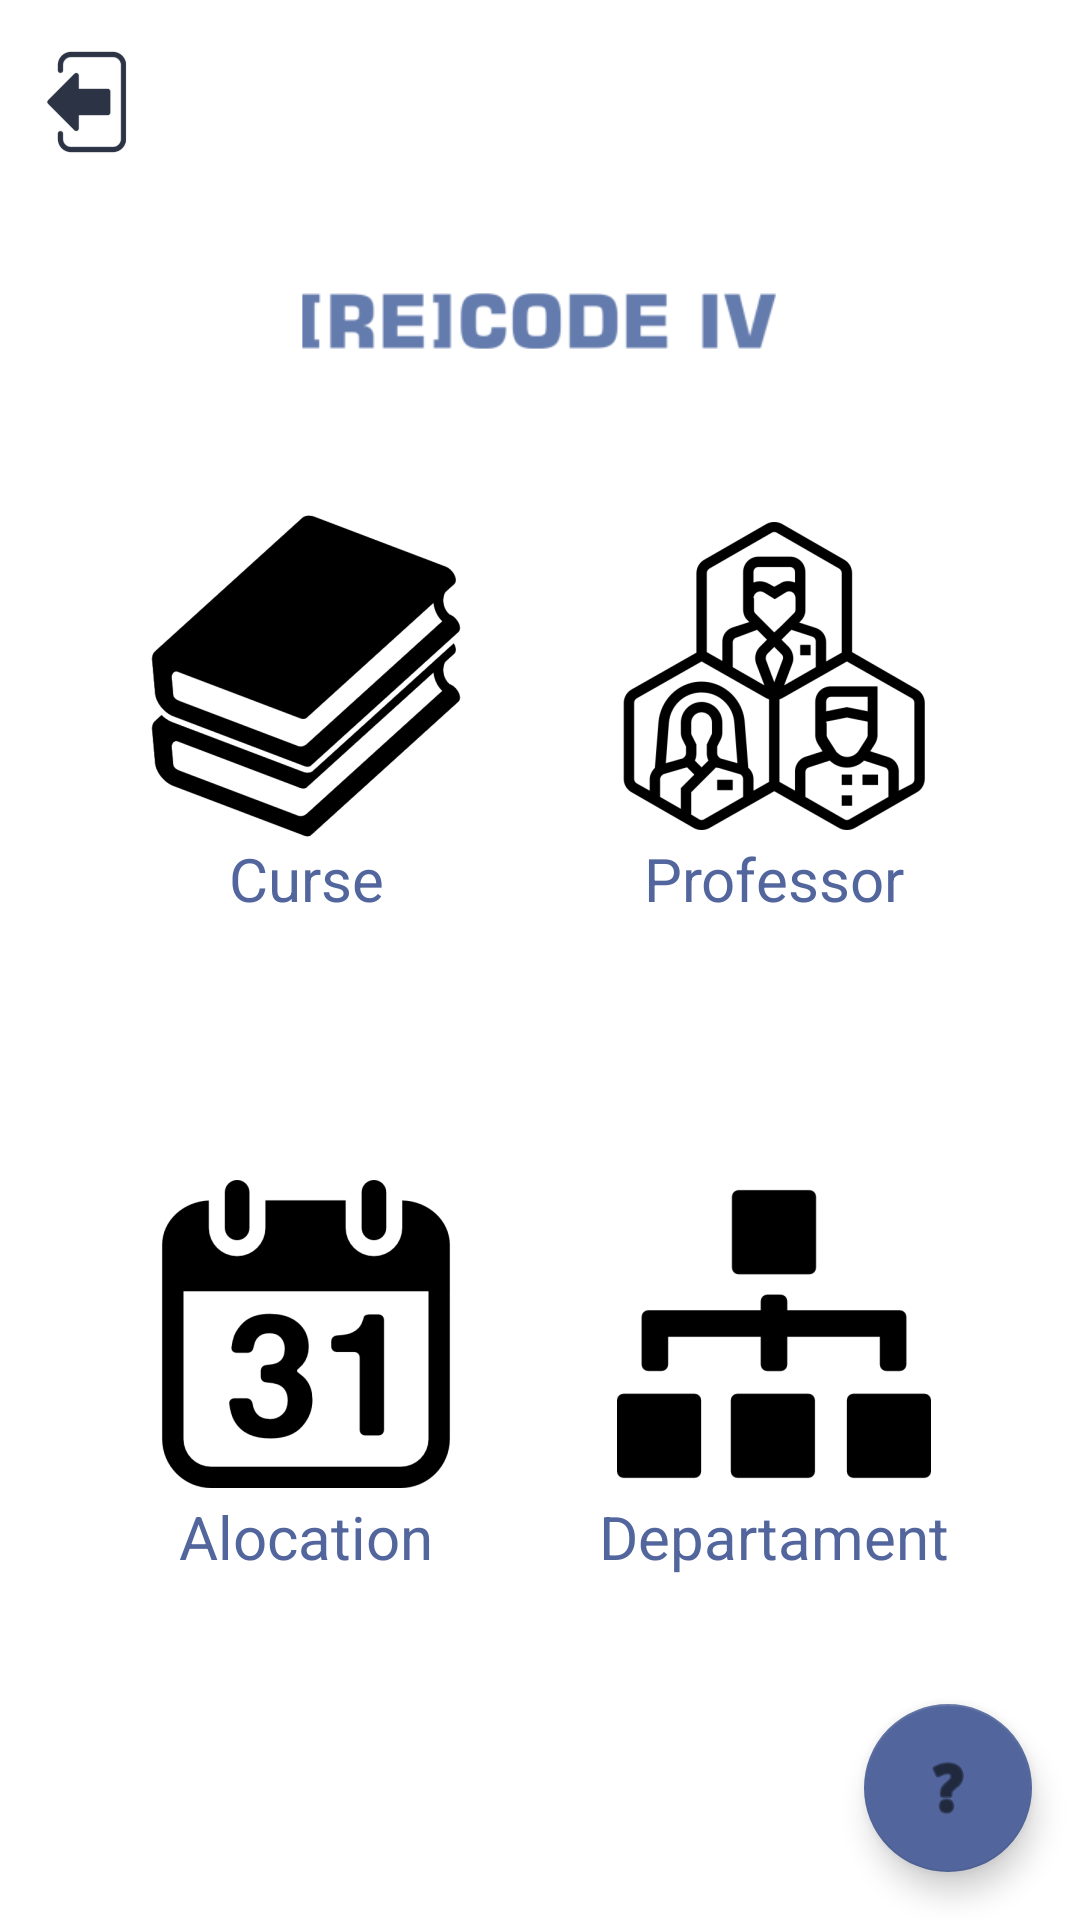

Screen size 1080 x 1920. Icon name, then its center in pixels as [x,y]:
calendar: [306,1334]
conect: [774,1334]
help: [948,1788]
livros: [306,676]
pessoas: [774,676]
